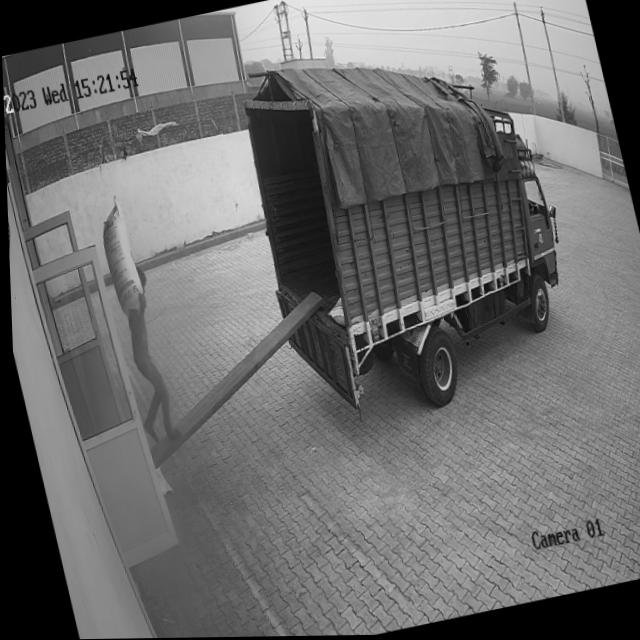sack: (91, 197, 146, 319)
